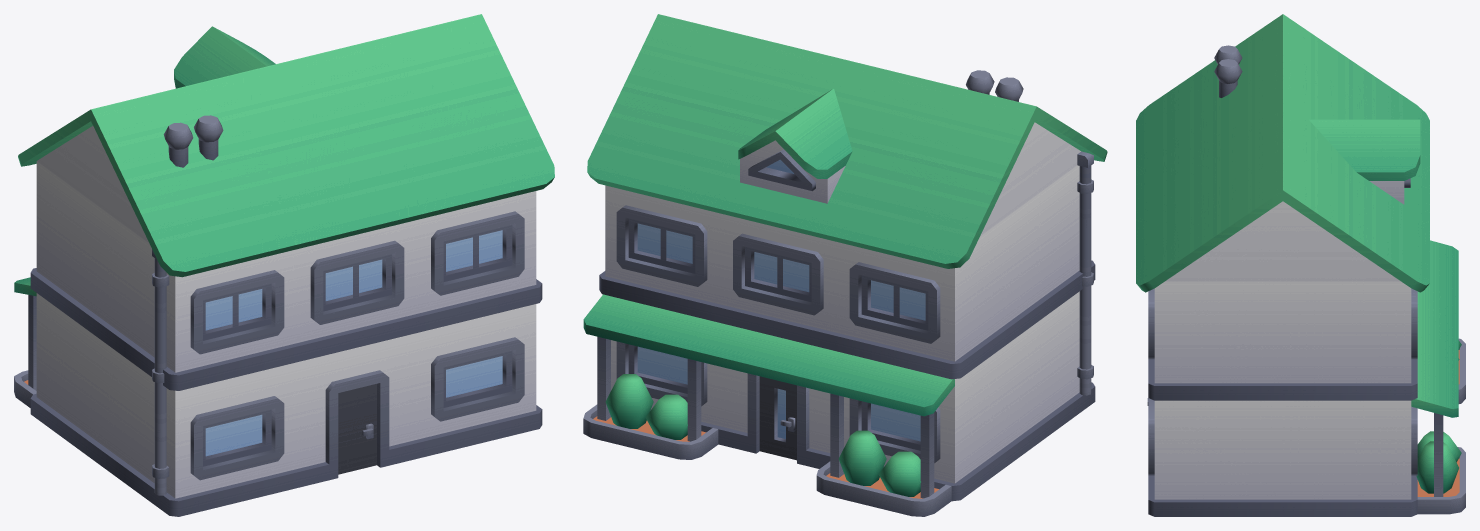
The model's file is building-type-e.glb.
3 views of the same model, side by side, from view 1: azimuth 30°, elevation 25°; view 2: azimuth 150°, elevation 25°; view 3: azimuth 270°, elevation 25° (orthographic). The views are drawn at different scales.
Parts seen in each view (by area): view 1: building-type-e; view 2: building-type-e; view 3: building-type-e.
Part boxes in pixels (x1,y1,x2,y2): building-type-e: (14,14,554,516); building-type-e: (583,14,1107,516); building-type-e: (1136,14,1465,516).
Size of the model in its own units: 1.3 by 1.14 by 1.03.
Materials: 1 (1 with a texture image).
